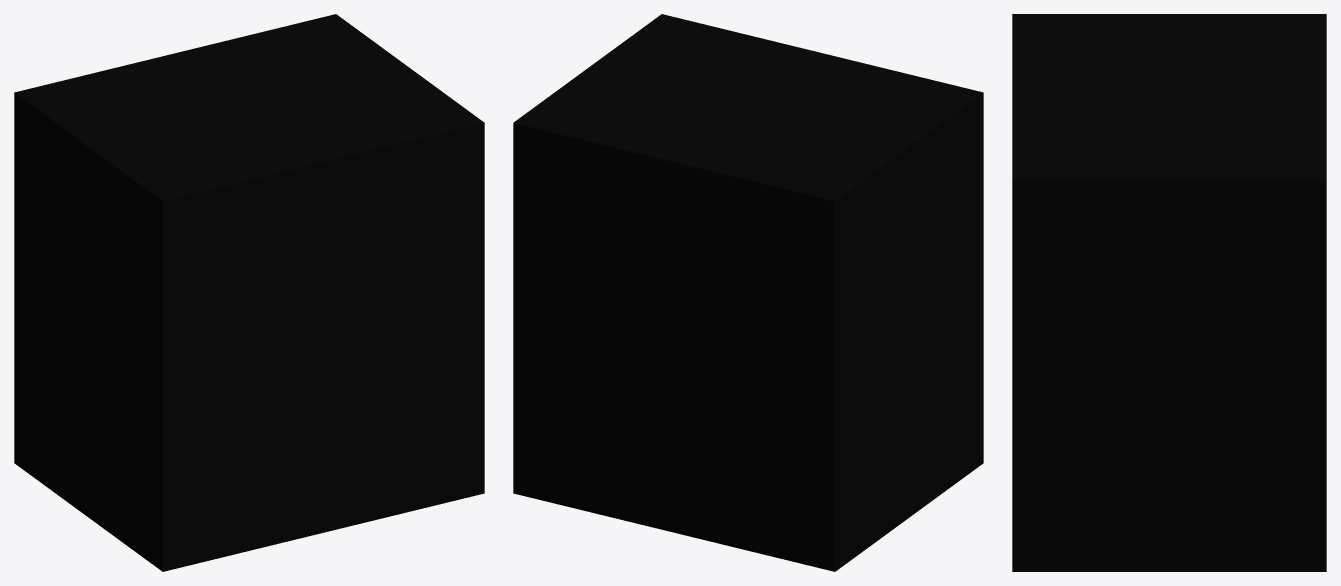
Rendered from bedroomNightstand.glb.
3 renders of one model, left to right at view 1: azimuth 30°, elevation 25°; view 2: azimuth 150°, elevation 25°; view 3: azimuth 270°, elevation 25°, orthographic. The views are drawn at different scales.
Visible parts, largest first — view 1: bedroomNightstand_0; view 2: bedroomNightstand_0; view 3: bedroomNightstand_0.
Boxes of the visible parts, x1=… form: bedroomNightstand_0: x1=14, y1=14, x2=484, y2=571; bedroomNightstand_0: x1=513, y1=14, x2=983, y2=571; bedroomNightstand_0: x1=1012, y1=14, x2=1326, y2=571.
Bounding box in the file's own units: 0.625 × 0.6875 × 0.5.
Materials: 1 (1 with a texture image).
